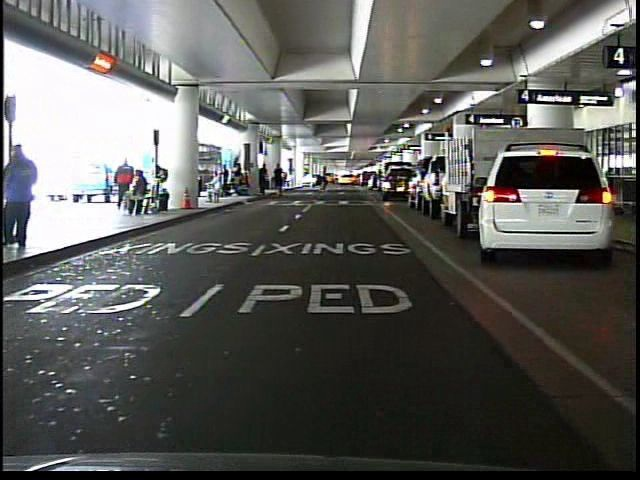person: (7, 142, 49, 256), (205, 171, 227, 207), (314, 164, 331, 195)
